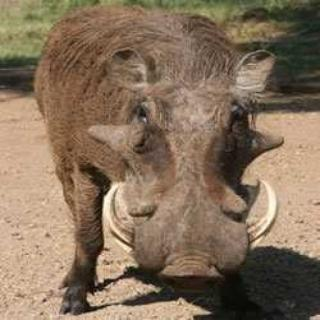Pig: (24, 3, 287, 309)
